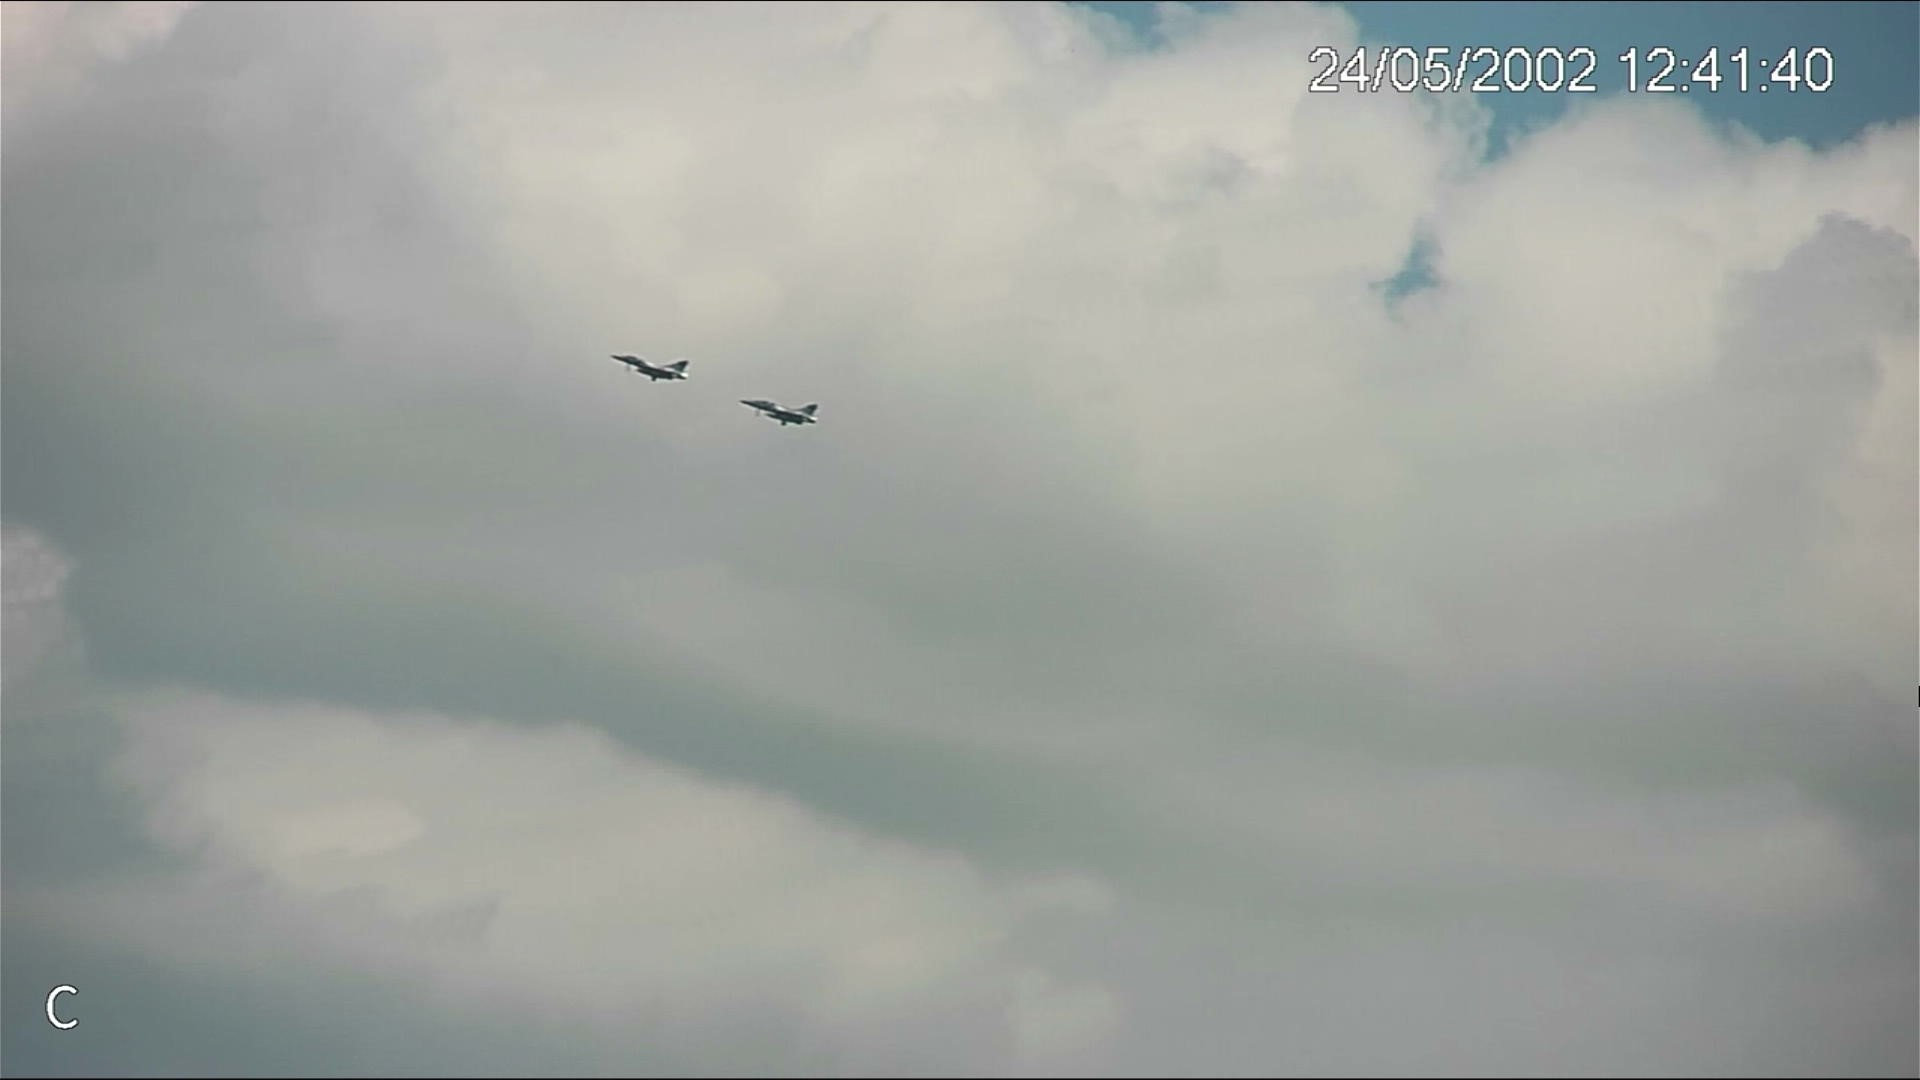SU_30: (611, 351, 692, 382), (741, 398, 822, 429)
